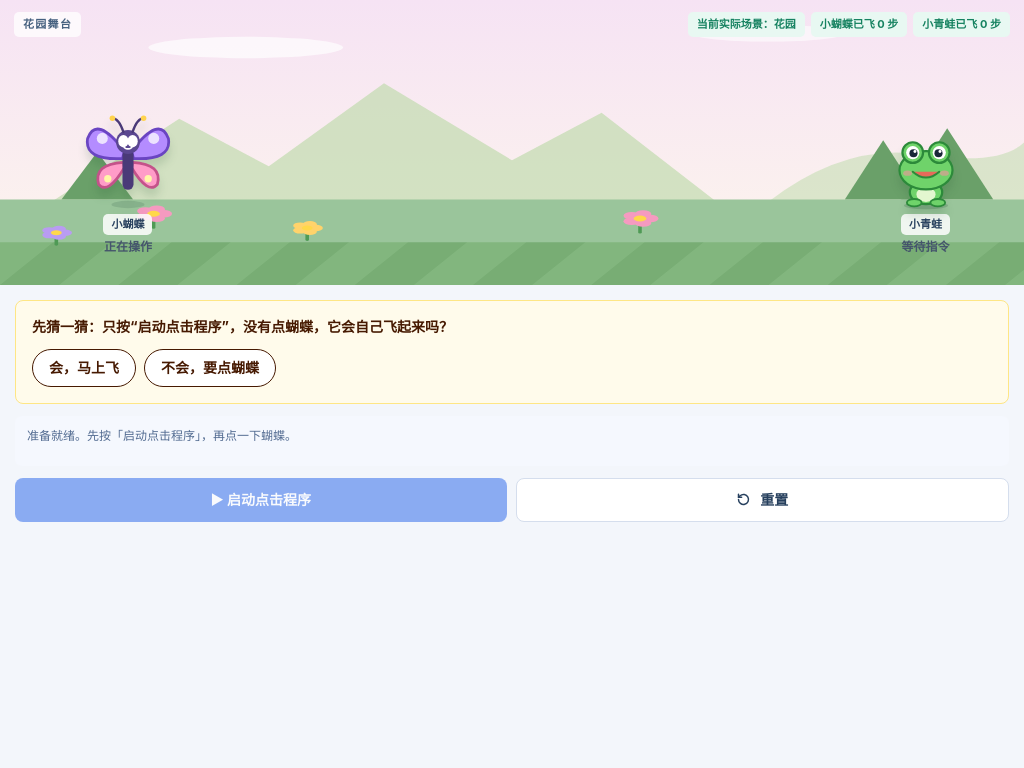
Test: PlayableStage failure feedback (TQ-008) › uses the lesson character name on the garden stage
Click the button with test id "garden-predict-click".
click(210, 368)  # box [144,349,276,387]
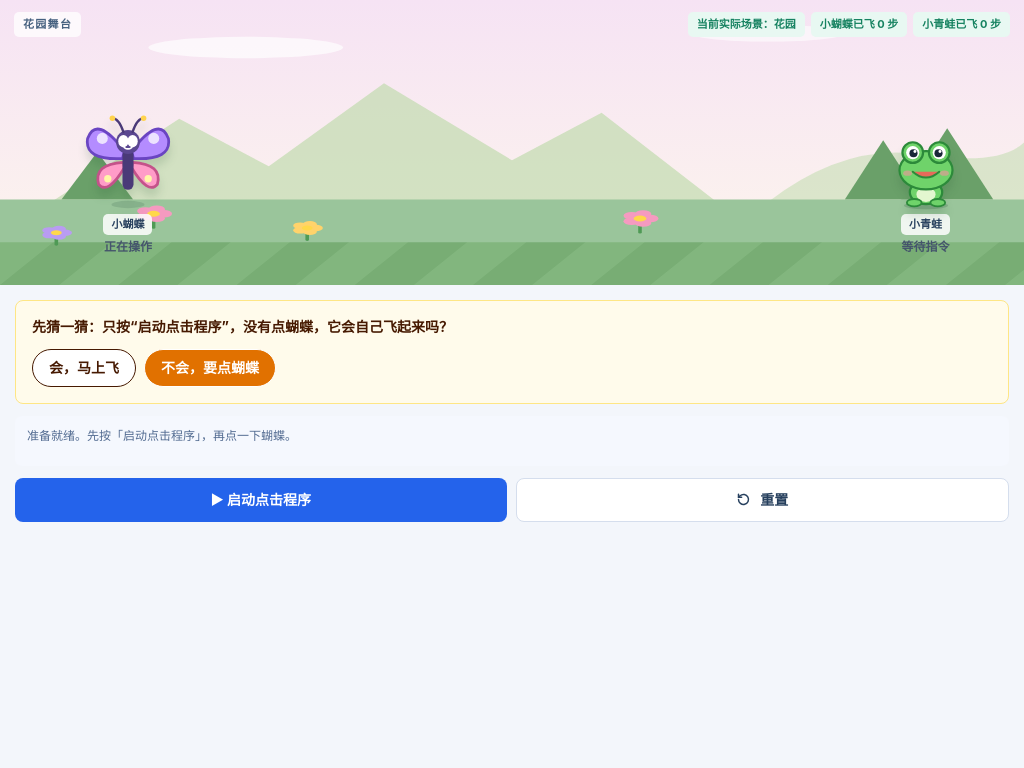
Click the button with test id "run-code-button".
click(261, 500)  # box [15,478,506,522]
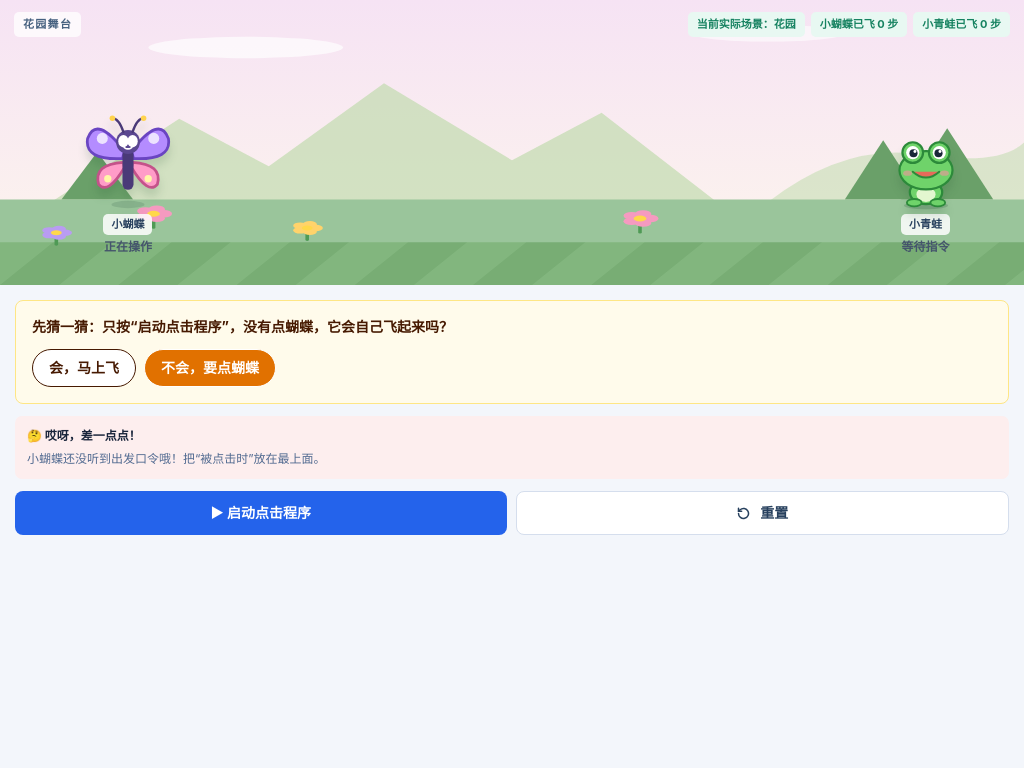
expect the text with test id "stage-run-reason" reads "小蝴蝶还没听到出发口令哦！把“被点击时”放在最上面。": met, box [27,451,326,466]
